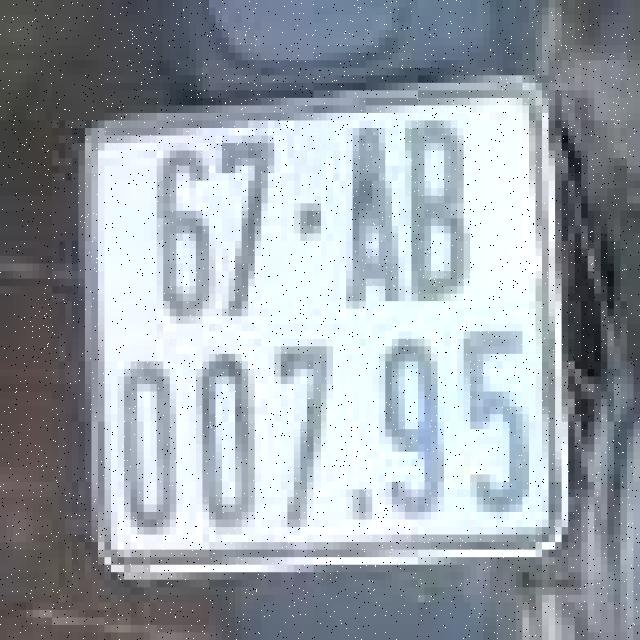0: (117, 358, 183, 538), (196, 350, 261, 531)
5: (457, 328, 529, 516)
6: (153, 143, 219, 324)
7: (271, 335, 336, 531), (219, 132, 284, 320)
9: (382, 335, 447, 523)
A: (339, 125, 405, 312)
B: (405, 113, 477, 309)
